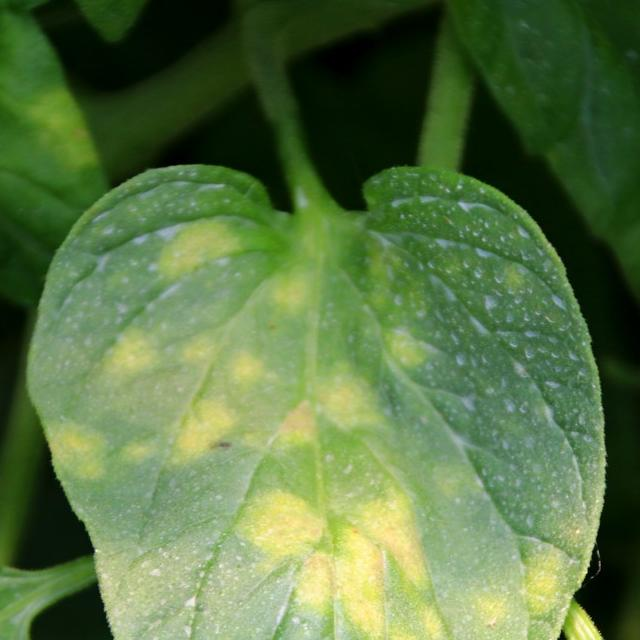Tomato mold leaf: (21, 131, 591, 640)
